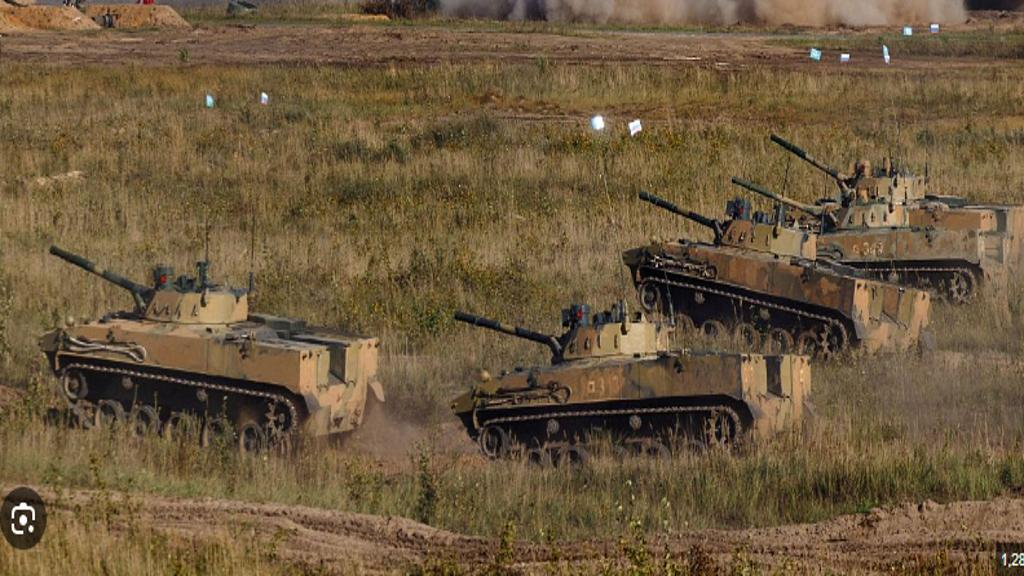APC-IFV: (38, 240, 389, 459), (448, 309, 823, 475), (618, 186, 931, 368), (727, 169, 988, 303), (769, 129, 1020, 261)
